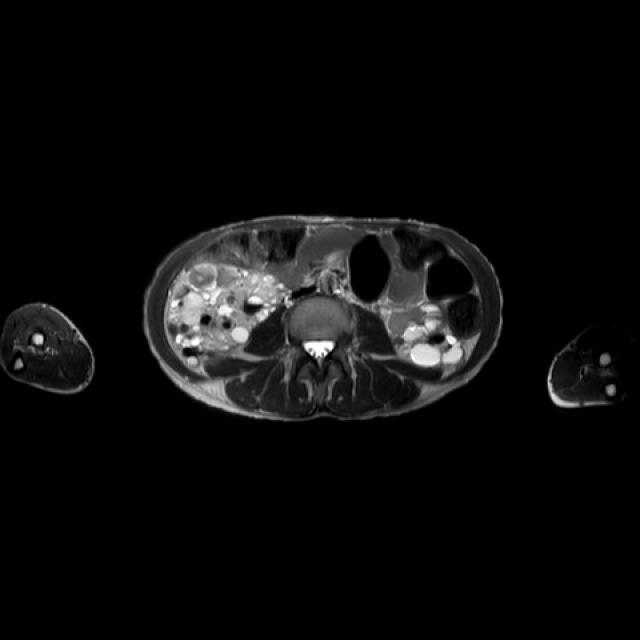sag: (170, 262, 289, 366)
sol: (388, 304, 462, 365)
